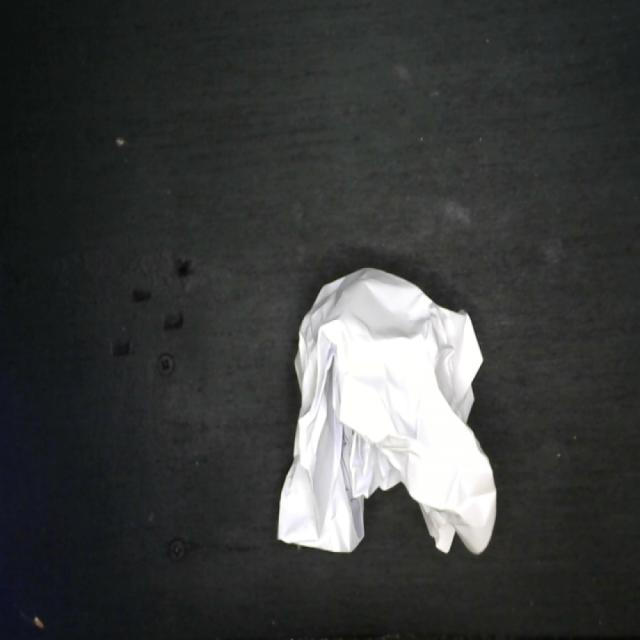biodegradable: (273, 261, 499, 560)
